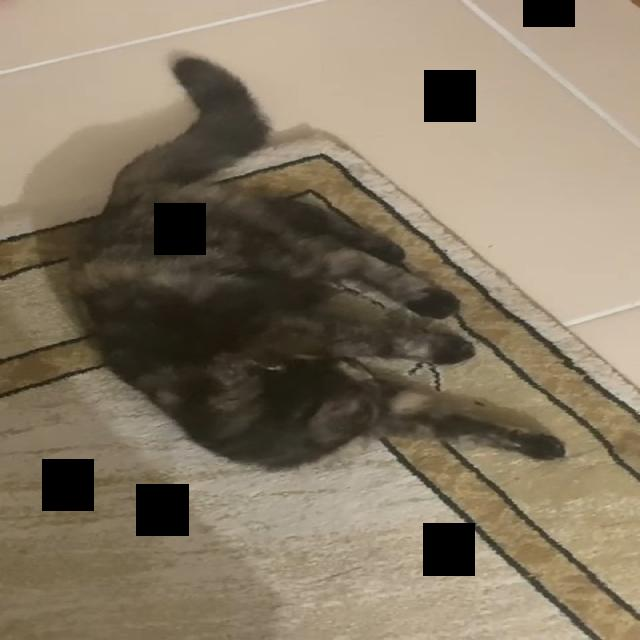authorized: (65, 50, 567, 472)
